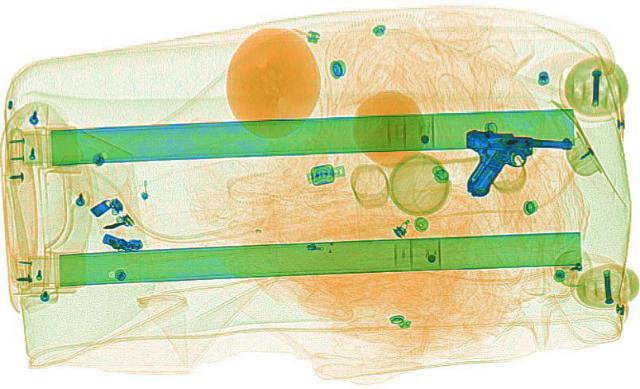Gun: (448, 129, 572, 200)
